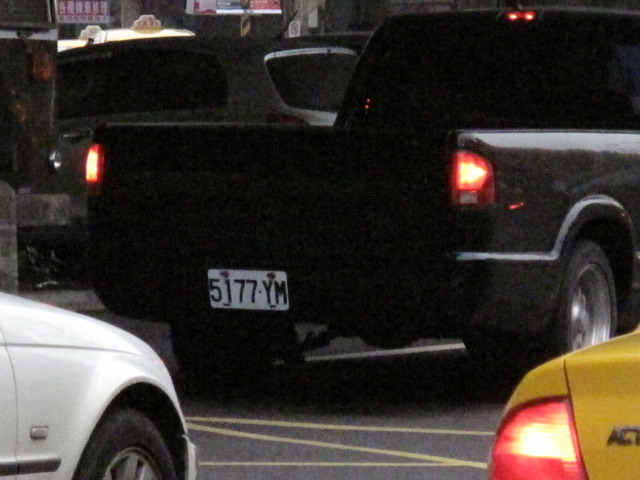plate: (204, 263, 296, 317)
